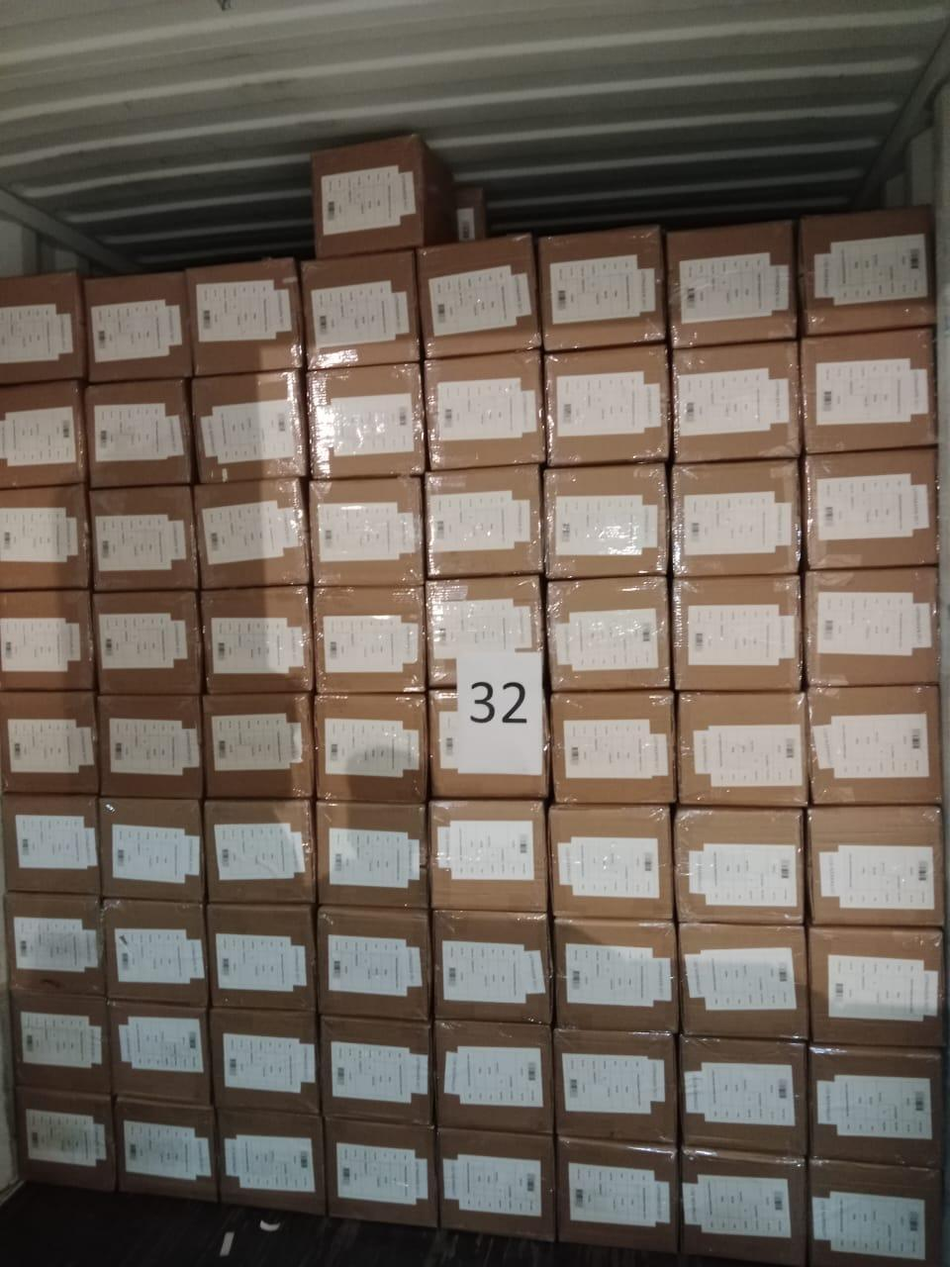carton: (308, 132, 458, 257), (796, 205, 934, 334), (805, 802, 941, 930), (662, 216, 799, 343), (804, 444, 939, 572), (800, 325, 936, 451), (666, 337, 802, 460), (805, 566, 940, 689), (805, 682, 940, 804), (808, 1040, 940, 1164), (672, 457, 803, 580), (543, 342, 671, 467), (672, 574, 805, 693), (808, 925, 941, 1044), (675, 686, 808, 804), (675, 806, 808, 924), (541, 462, 671, 582), (535, 225, 666, 344), (678, 1033, 808, 1152), (546, 574, 676, 692), (546, 803, 676, 921), (544, 685, 674, 803), (676, 917, 807, 1033), (679, 1141, 805, 1261), (415, 231, 542, 350), (551, 1026, 680, 1143), (549, 914, 677, 1031), (300, 245, 424, 365), (555, 1133, 679, 1253), (421, 351, 544, 471), (436, 1121, 561, 1239), (303, 359, 425, 479), (184, 255, 305, 373), (425, 688, 550, 802), (190, 368, 309, 487), (807, 1152, 938, 1260), (431, 911, 557, 1022), (190, 473, 309, 590), (419, 465, 543, 577), (308, 472, 426, 589), (420, 571, 543, 682), (431, 1016, 556, 1124), (315, 906, 432, 1019), (80, 265, 193, 381), (316, 1014, 434, 1125), (312, 689, 428, 801), (427, 795, 547, 903), (324, 1114, 437, 1228), (199, 585, 313, 697), (199, 689, 313, 800), (312, 793, 427, 903), (202, 794, 318, 903), (86, 483, 199, 594), (205, 899, 318, 1010), (213, 1101, 325, 1212), (91, 586, 203, 697), (313, 580, 430, 685), (85, 377, 196, 487), (205, 1004, 319, 1108), (95, 792, 203, 899), (94, 690, 203, 796), (99, 898, 211, 1000), (3, 892, 107, 1001), (0, 480, 91, 603), (3, 792, 103, 901), (14, 1084, 114, 1192), (9, 993, 111, 1096), (114, 1097, 214, 1202), (104, 996, 212, 1093), (0, 377, 89, 494), (0, 690, 97, 796), (0, 586, 94, 695), (0, 267, 87, 383)
